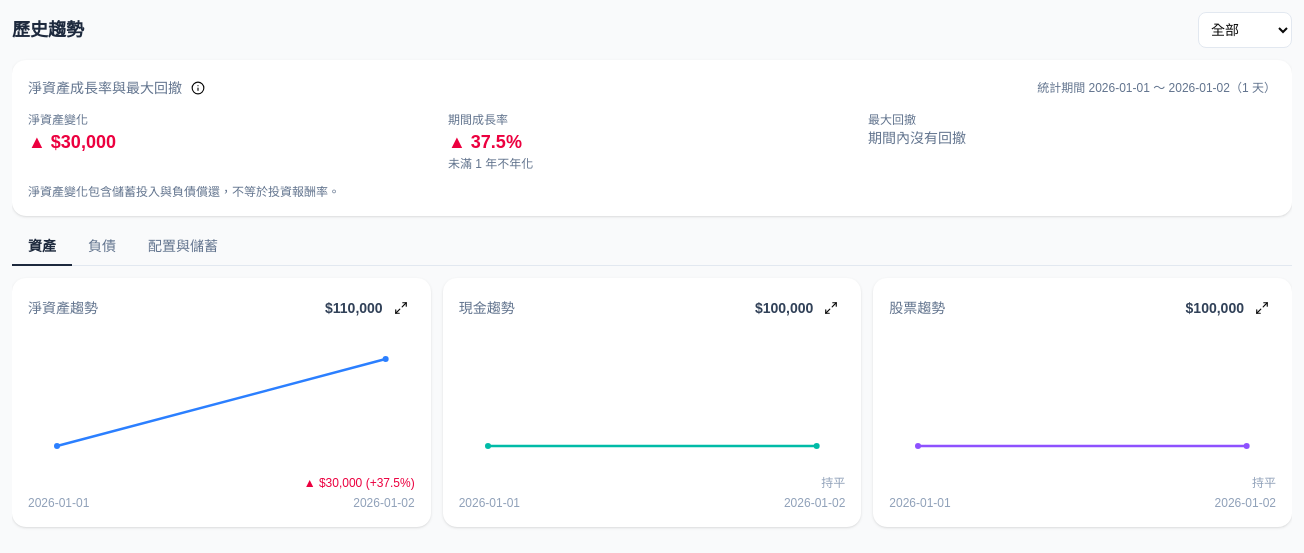
Test: TrendSection › 儲蓄率／每月應還款／資產配置趨勢 › 儲蓄率趨勢顯示最新一筆儲蓄率，且不顯示增減比對
The width and height of the screenshot is (1304, 553).
Press the mouse on the tab "配置與儲蓄" at (183, 247), box [132,228,234,266]
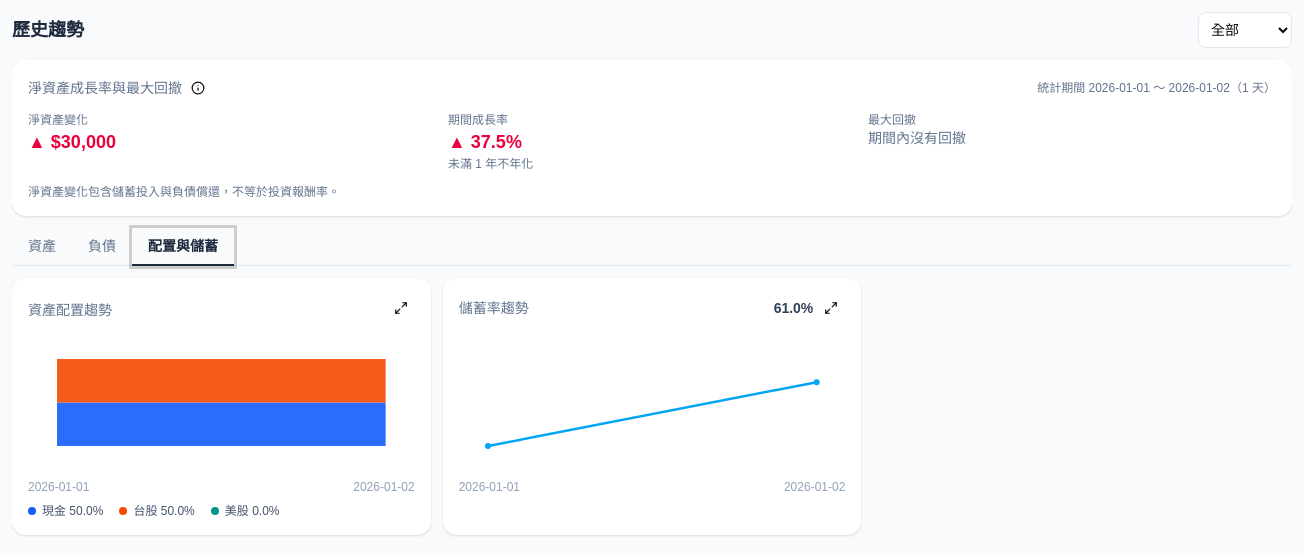
Expected: the text "儲蓄率趨勢" does not show "▲", [443,278,861,535]
Expected: the text "61.0%" is shown, [774,298,813,318]
